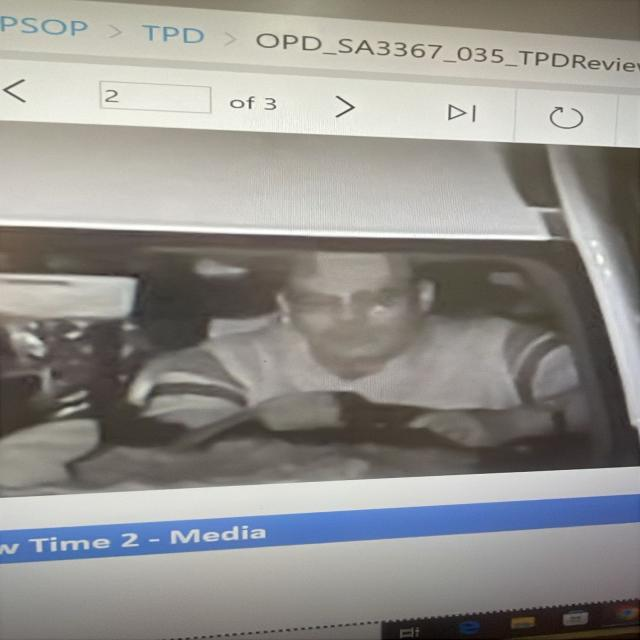person_without_seatbelt: (138, 243, 596, 466)
